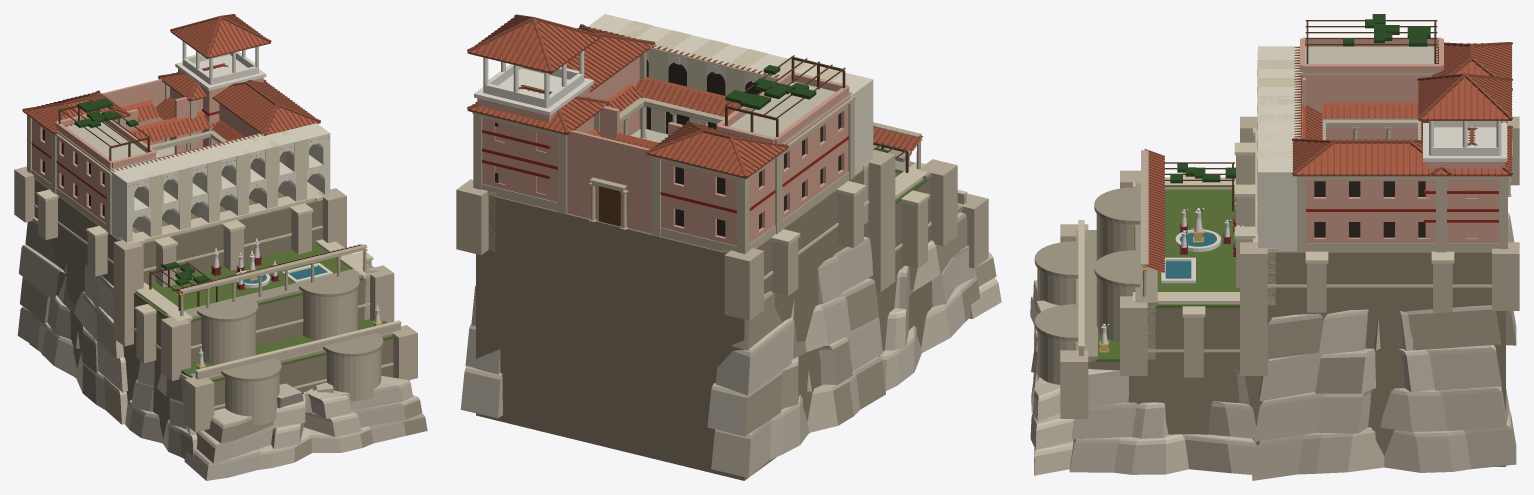
The model's file is rome_domus_b.glb.
The picture shows the model from 3 angles, left to right: view 1: azimuth 30°, elevation 25°; view 2: azimuth 150°, elevation 25°; view 3: azimuth 270°, elevation 25°; orthographic projection. The views are drawn at different scales.
Visible parts, largest first — view 1: rome_domus_b; view 2: rome_domus_b; view 3: rome_domus_b.
Part boxes in pixels (box(x1,y1,x2,y2)): rome_domus_b: box(14, 14, 427, 480); rome_domus_b: box(456, 14, 1001, 480); rome_domus_b: box(1030, 14, 1519, 480).
Bounding box in the file's own units: 33.9 × 42.85 × 49.35.
